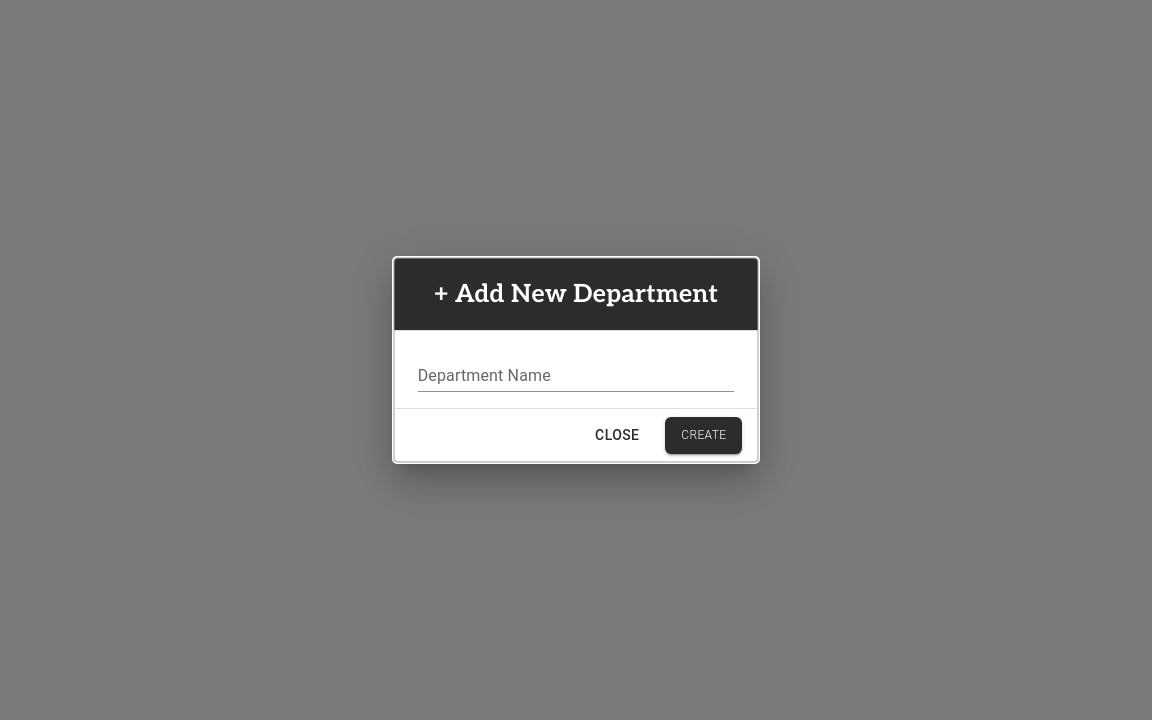
Test: Super-admin AddDepartmentDialog › successful create shows success snackbar and closes dialog
In the field labelled "Department Name": point(576, 378) [418,363,734,392], type "History"
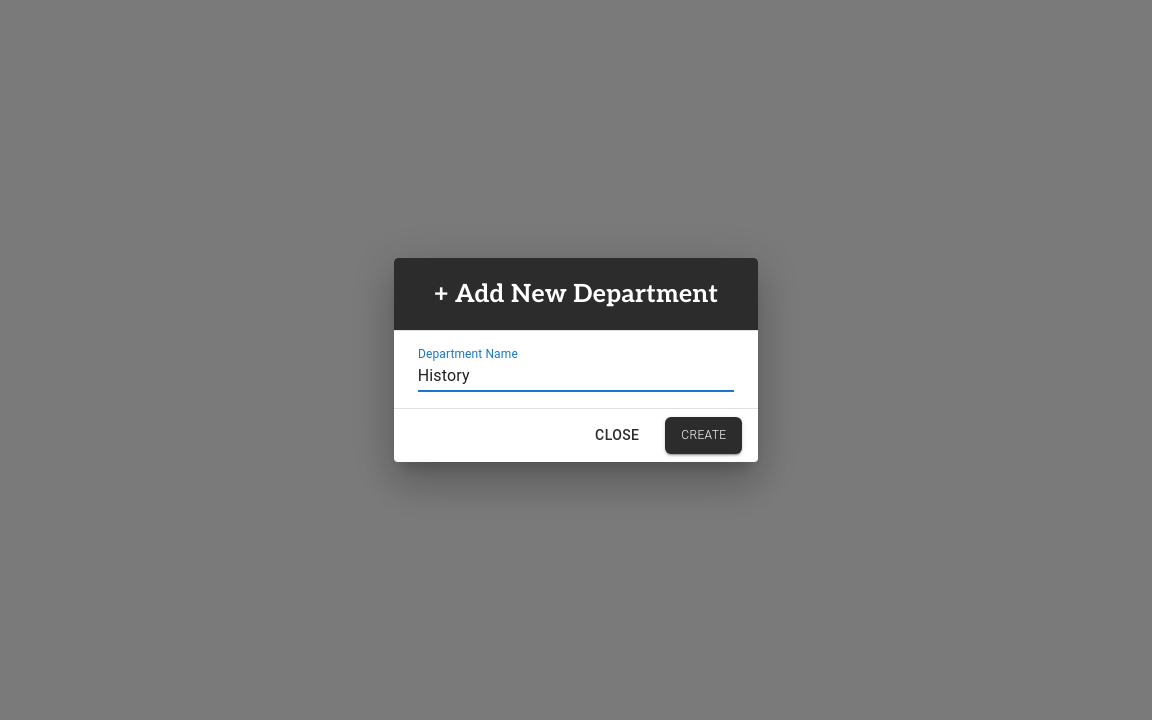
Click the button "Create": point(704, 436) [665,417,742,454]
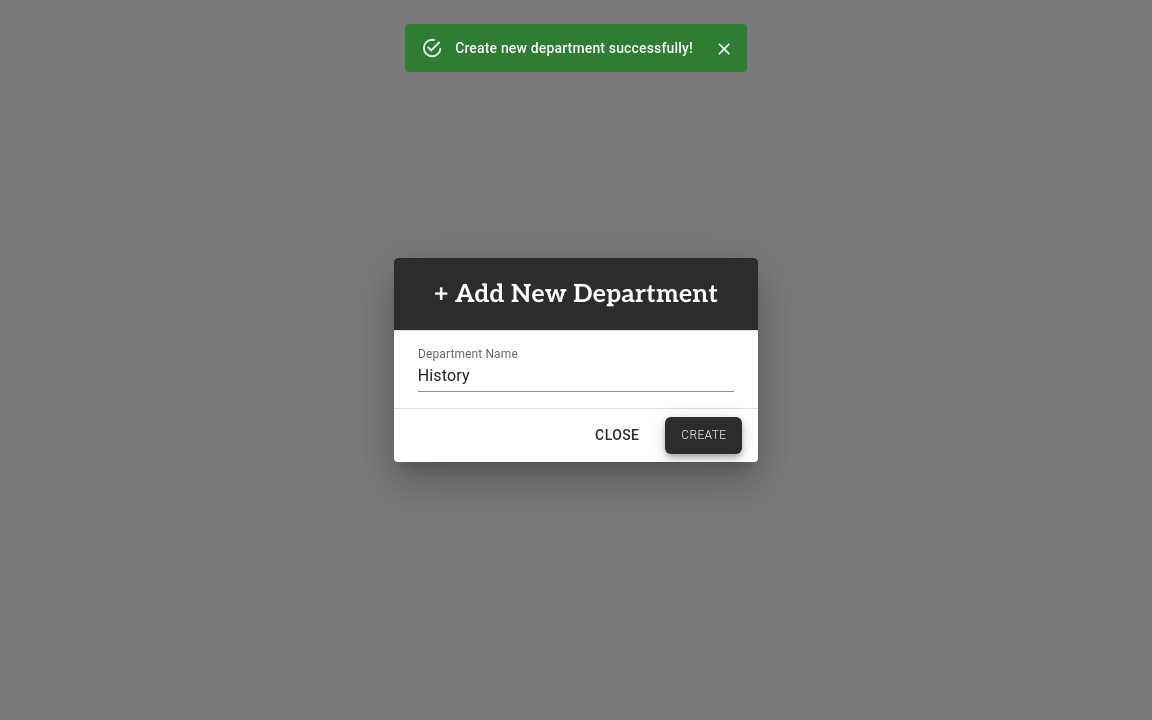
Result: the text "Create new department successfully!" is shown at [455,40,693,56]
